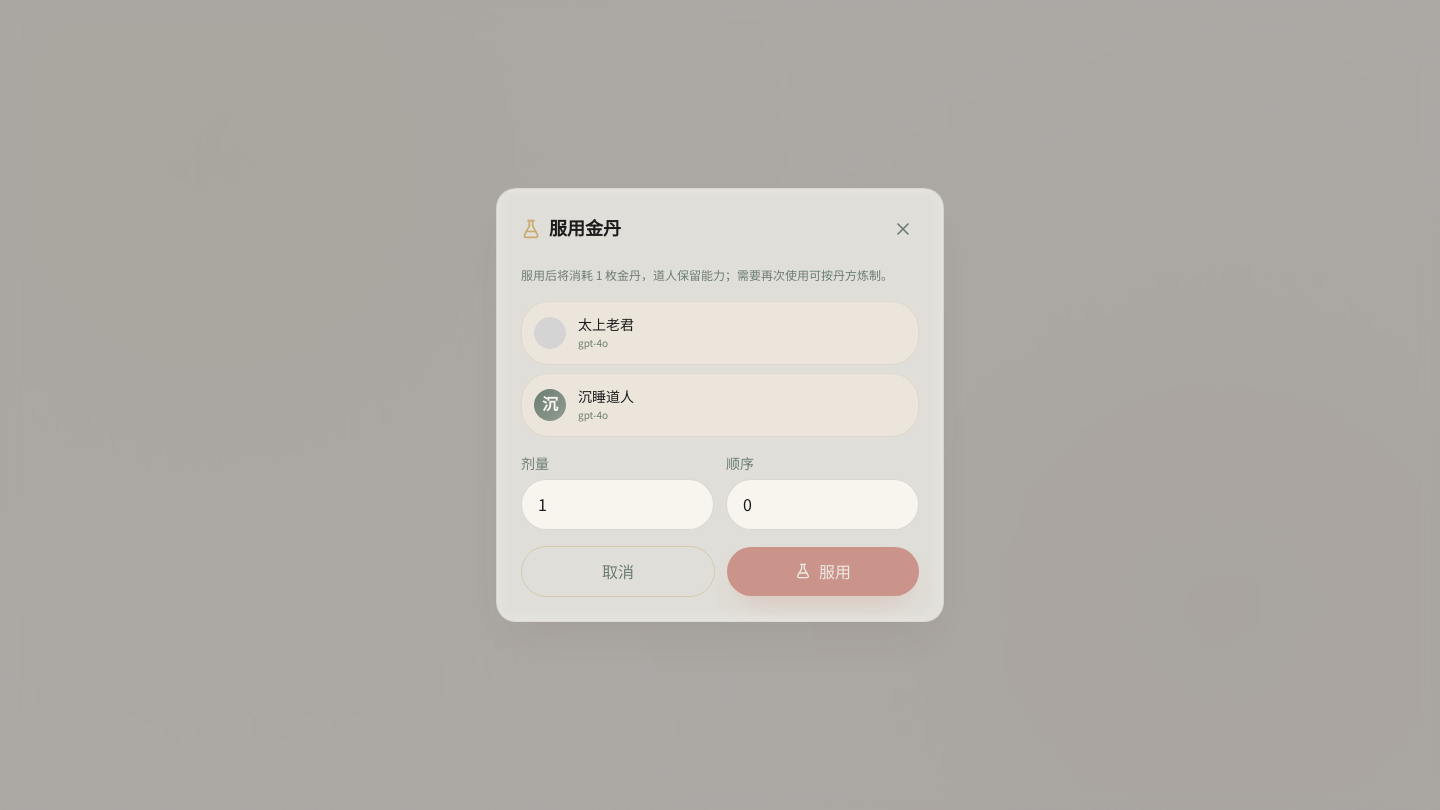
Scenario: ConsumePillModal 服用对话框 › 重复点击提交只产生一项逻辑操作
This screenshot has width=1440, height=810.
Expected: the text "太上老君" is shown, x1=578 y1=314 x2=634 y2=334
Click the button "太上老君 gpt-4o".
click(550, 333)  # box x1=521 y1=301 x2=919 y2=365
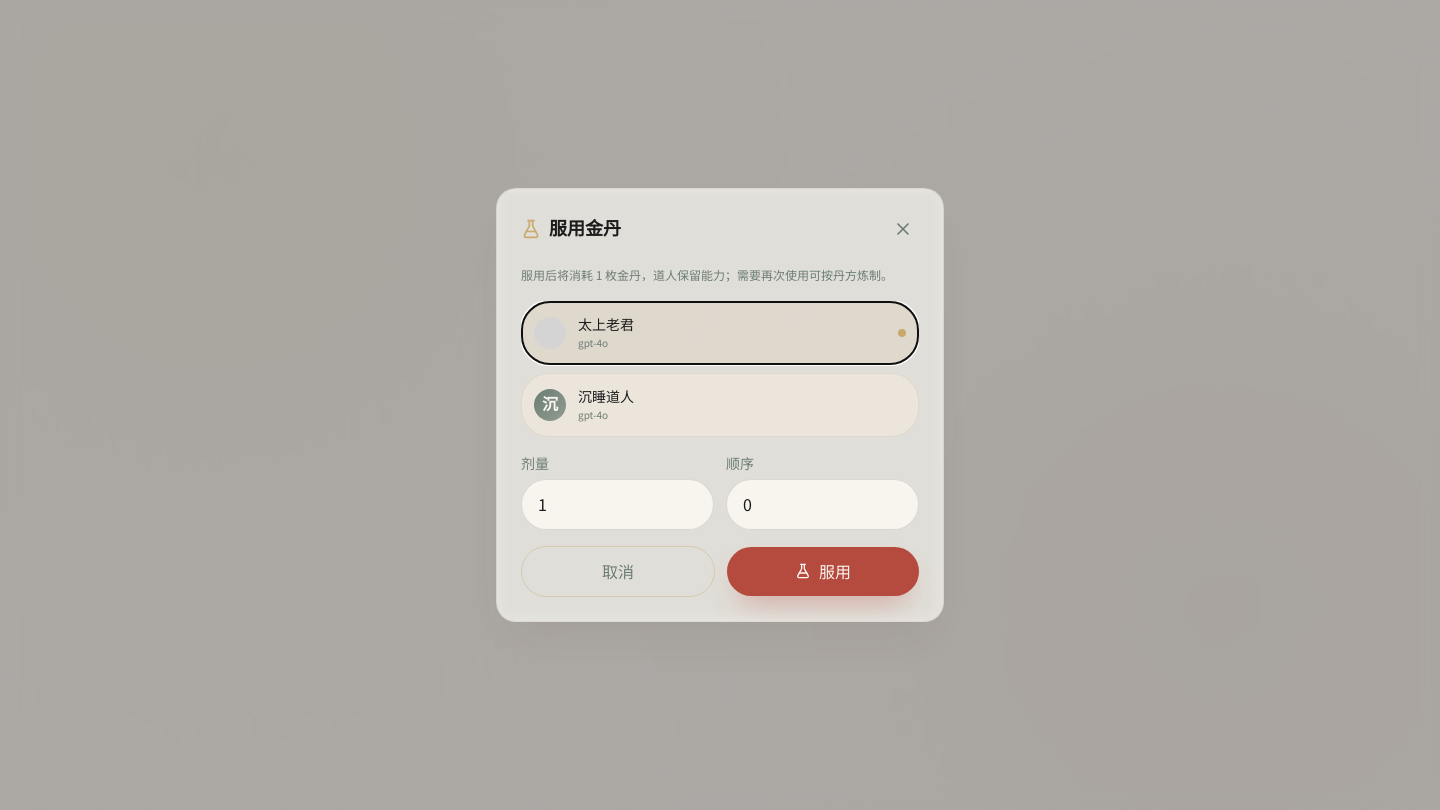
Click the button "服用".
click(823, 571)  # box x1=727 y1=547 x2=919 y2=596
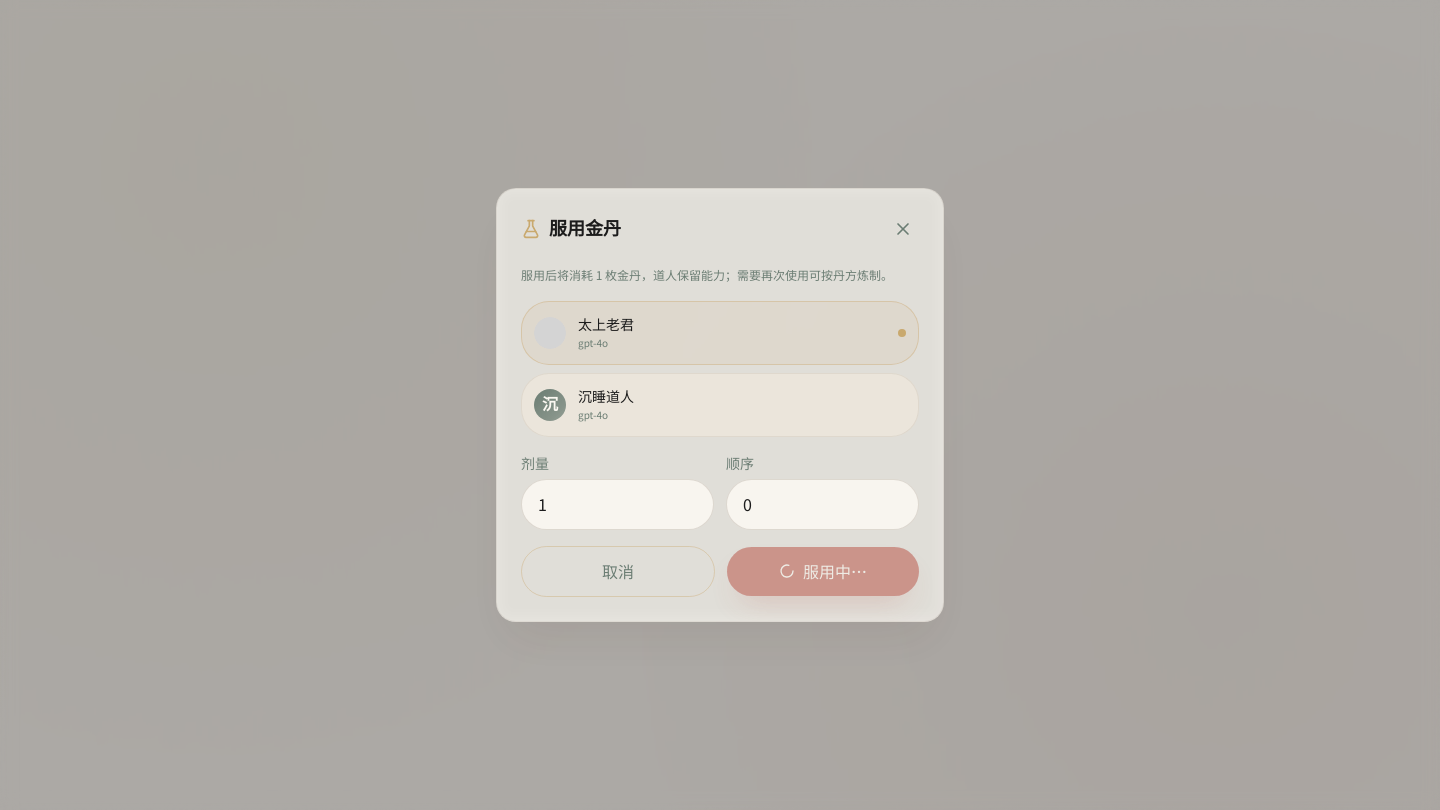
Click the button "服用中…".
click(823, 571)  # box x1=727 y1=547 x2=919 y2=596
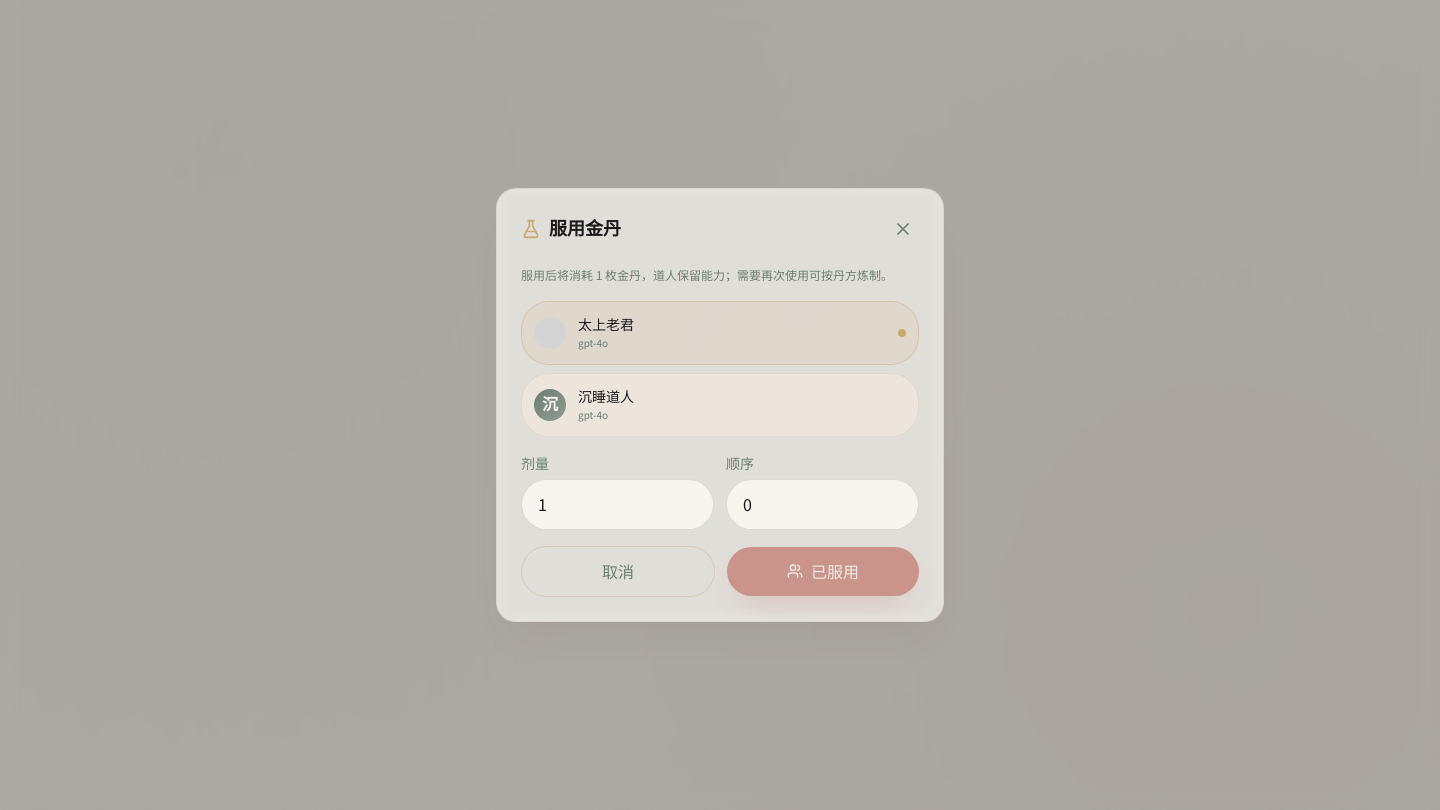
Now the button "已服用" is shown, box x1=727 y1=547 x2=919 y2=596
